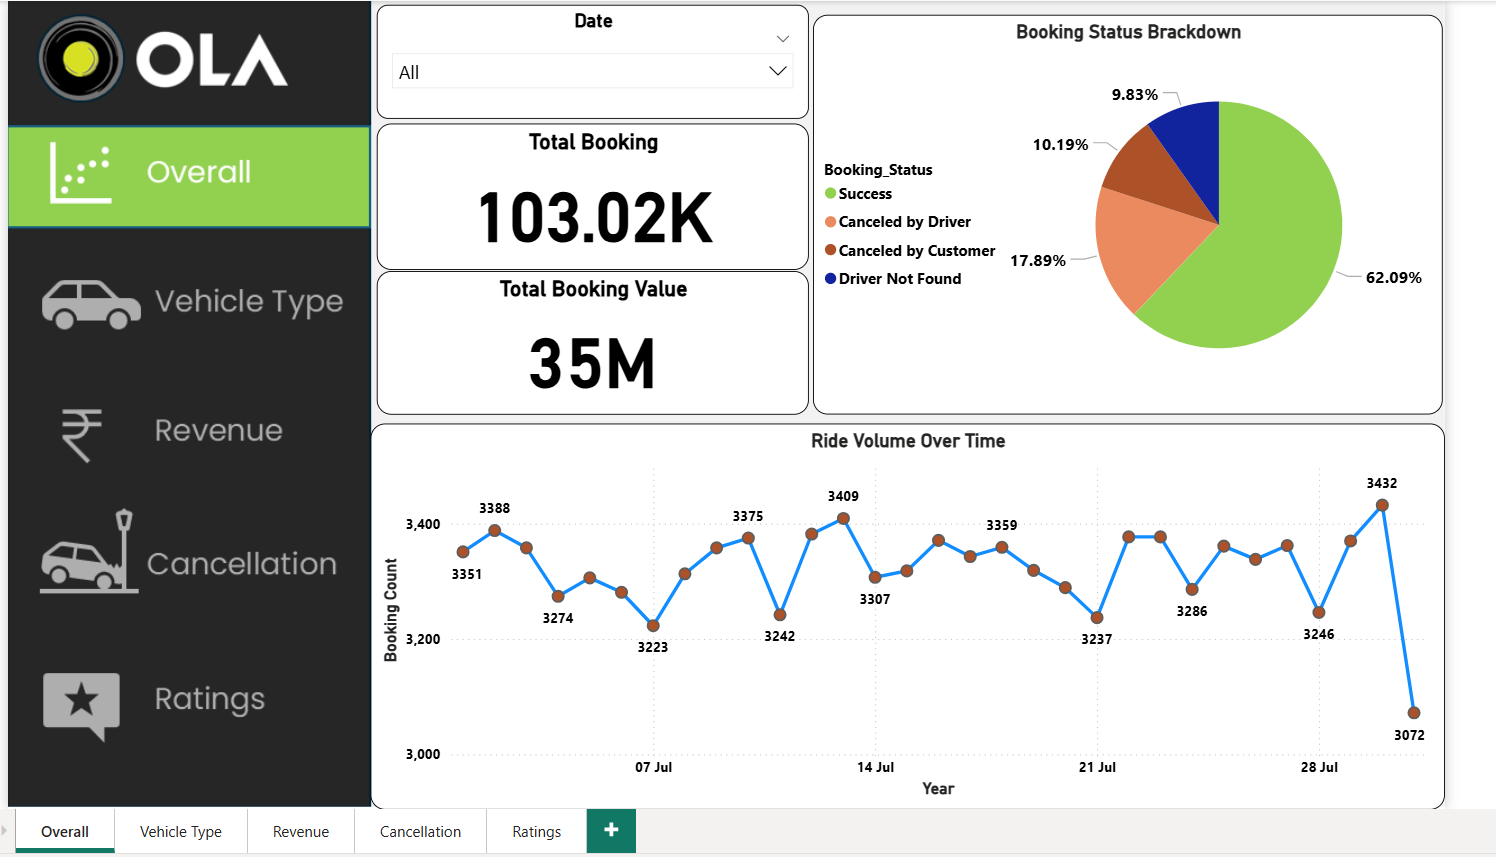

What the dashboard file says about the page in this screenshot:
{"tool":"powerbi","page":{"name":"Overall","canvas":[1280,720],"ordinal":0},"visuals":[{"type":"lineChart","title":"Ride Volume Over Time","fields":{"Category":["Bookings.Date.Variation.Date Hierarchy.Year","Bookings.Date.Variation.Date Hierarchy.Quarter","Bookings.Date.Variation.Date Hierarchy.Month","Bookings.Date.Variation.Date Hierarchy.Day"],"Y":["CountNonNull(Bookings.Booking_ID)"]},"box":[323.3,376.4,956.7,343.8],"z":1000},{"type":"pieChart","title":"Booking Status Brackdown","fields":{"Category":["Bookings.Booking_Status"],"Y":["CountNonNull(Bookings.Booking_Status)"]},"box":[716.6,12.1,561,355.9],"z":2000},{"type":"slicer","title":"Date","fields":{"Values":["Bookings.Date.Variation.Date Hierarchy.Year","Bookings.Date.Variation.Date Hierarchy.Month","Bookings.Date.Variation.Date Hierarchy.Day"]},"box":[328.2,3.6,384.9,101.3],"z":3000},{"type":"card","title":"Total Booking","fields":{"Values":["CountNonNull(Bookings.Booking_ID)"]},"box":[328.2,108.6,384.9,130.3],"z":4000},{"type":"card","title":"Total Booking Value","fields":{"Values":["Sum(Bookings.Booking_Value)"]},"box":[328.2,240.1,384.9,127.9],"z":5000},{"type":"actionButton","box":[0,219.6,323.3,95.3],"z":5001}]}

Visuals, with their boxes on the page's 1280x720 design canvas (x1, y1, x2, y2). These are canvas units, not pixel positions in the 1496x857 screenshot, which may show the page scaled, cropped or inside an application window:
"Ride Volume Over Time" lineChart: x1=323 y1=376 x2=1280 y2=720
"Booking Status Brackdown" pieChart: x1=717 y1=12 x2=1278 y2=368
"Date" slicer: x1=328 y1=4 x2=713 y2=105
"Total Booking" card: x1=328 y1=109 x2=713 y2=239
"Total Booking Value" card: x1=328 y1=240 x2=713 y2=368
actionButton: x1=0 y1=220 x2=323 y2=315
